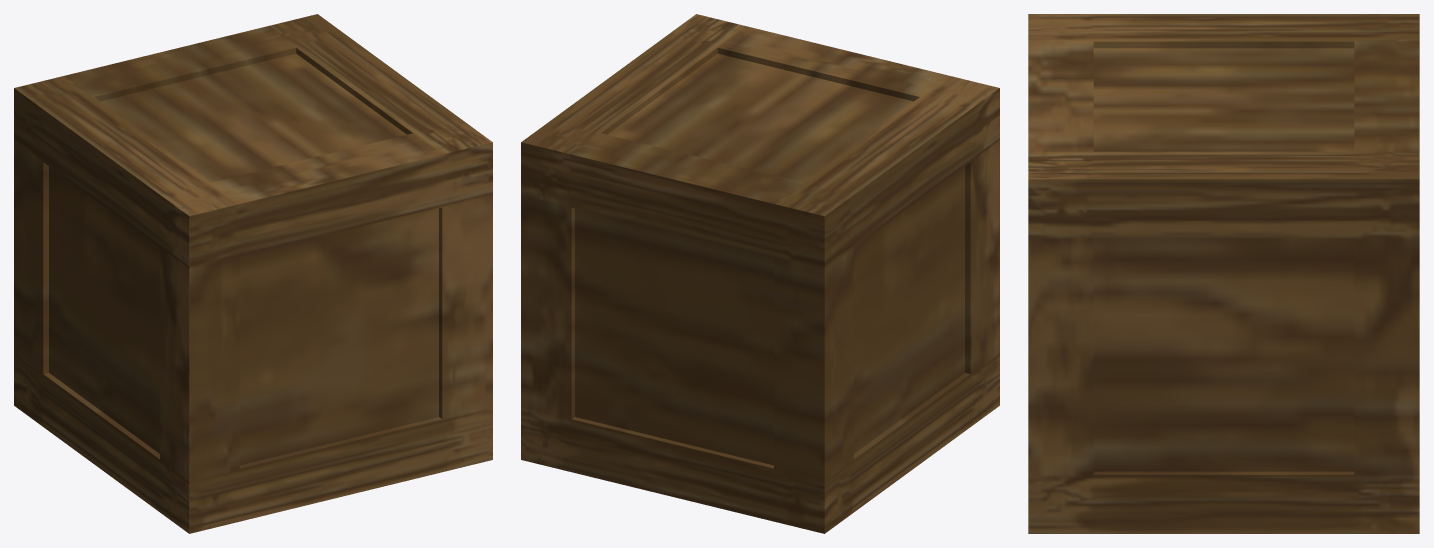
The model's file is Crate2.glb.
3 views of the same model, side by side, from view 1: azimuth 30°, elevation 25°; view 2: azimuth 150°, elevation 25°; view 3: azimuth 270°, elevation 25° (orthographic). The views are drawn at different scales.
Visible parts, largest first — view 1: Crate2; view 2: Crate2; view 3: Crate2.
Part boxes in pixels (<box>): Crate2: <box>14,14,492,533</box>; Crate2: <box>521,14,999,533</box>; Crate2: <box>1028,14,1419,533</box>.
Size of the model in its own units: 2 by 2 by 2.
1 material, 1 textured.
